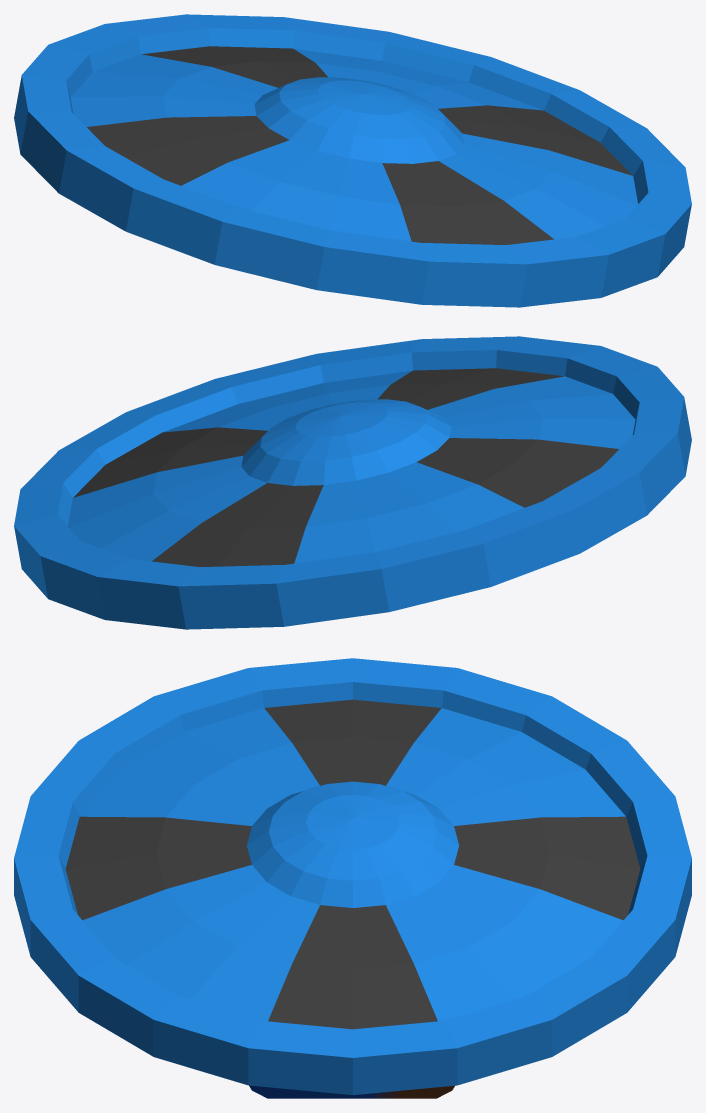
Rendered from Shield.fbx.
3 views of the same model, one above another, from view 1: azimuth 30°, elevation 25°; view 2: azimuth 150°, elevation 25°; view 3: azimuth 270°, elevation 25° (orthographic).
Visible parts, largest first — view 1: Shield1; view 2: Shield1; view 3: Shield1.
Boxes of the visible parts, left/top/right/bottom form: Shield1: left=14, top=14, right=691, bottom=307; Shield1: left=14, top=336, right=691, bottom=629; Shield1: left=14, top=658, right=691, bottom=1098.
Bounding box in the file's own units: 733 × 270 × 737.
1 material, 1 textured.
